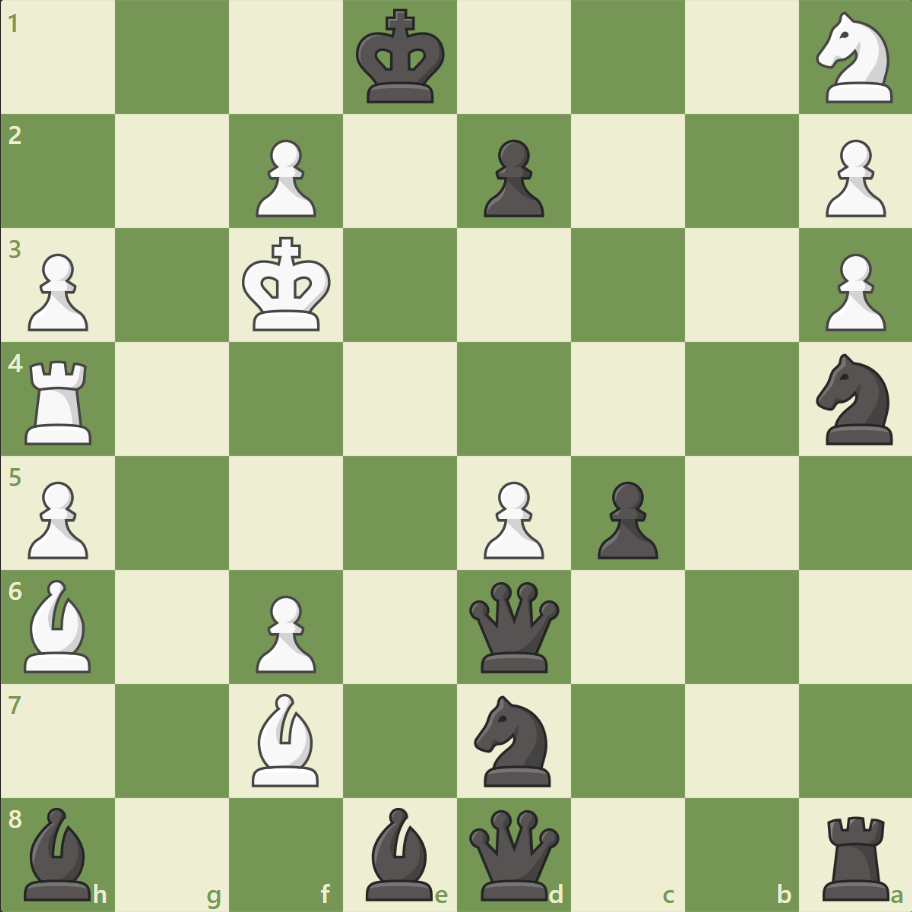B: (244, 687, 328, 790), (17, 574, 101, 676)
K: (238, 231, 338, 339)
N: (806, 7, 903, 110)
P: (247, 586, 322, 677), (474, 473, 549, 564), (20, 473, 95, 564), (20, 246, 95, 337), (247, 132, 322, 223), (815, 246, 889, 337), (815, 132, 889, 223)
R: (19, 352, 102, 449)
b: (358, 801, 442, 904), (17, 801, 101, 904)
k: (351, 4, 451, 112)
n: (465, 688, 562, 791), (806, 348, 903, 450)
p: (474, 132, 549, 223), (588, 473, 662, 564)
q: (464, 576, 563, 676), (464, 804, 563, 903)
r: (814, 806, 897, 904)
